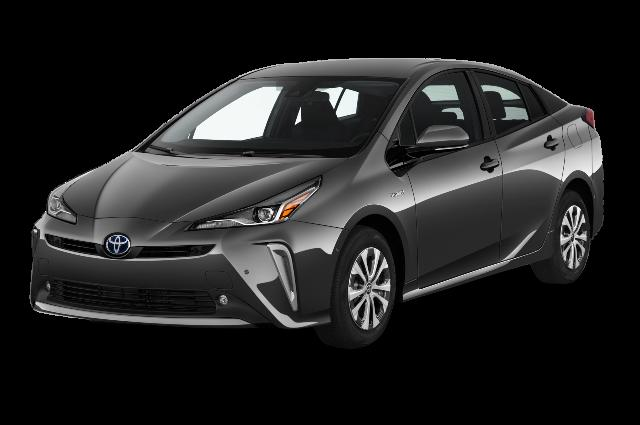toyota: (31, 57, 604, 347)
